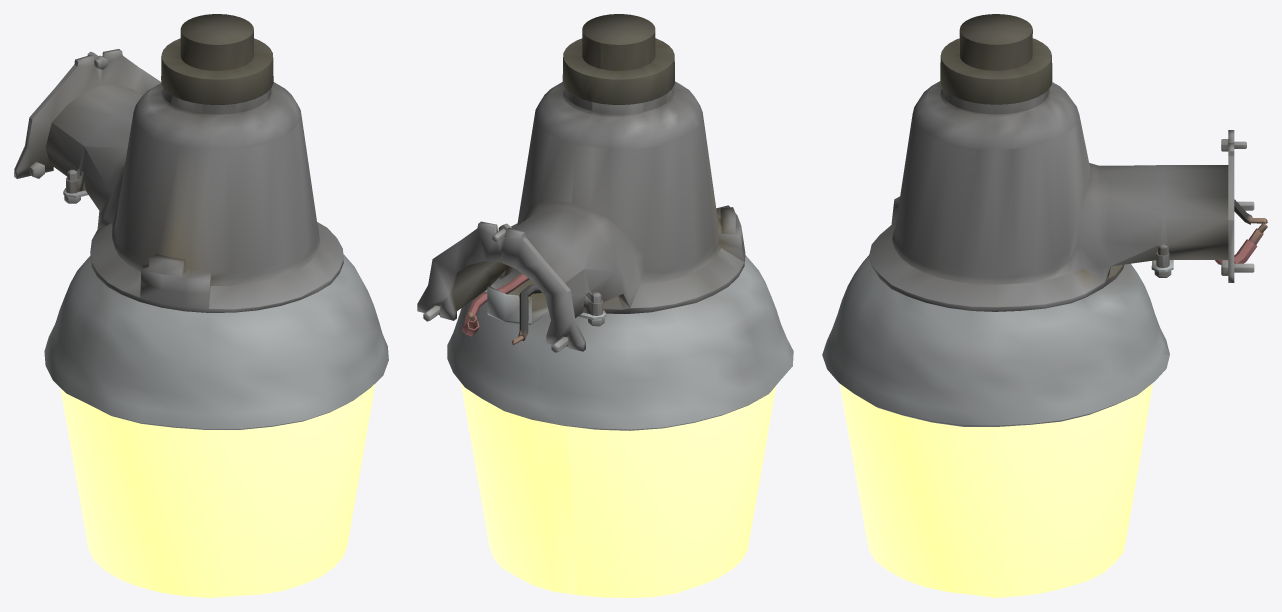
Rendered from KFB_Lamp_flood.r1.glb.
The picture shows the model from 3 angles, left to right: view 1: azimuth 30°, elevation 25°; view 2: azimuth 150°, elevation 25°; view 3: azimuth 270°, elevation 25°; orthographic projection.
Parts seen in each view (by area): view 1: KFB_Lamp_flood; view 2: KFB_Lamp_flood; view 3: KFB_Lamp_flood.
Boxes of the visible parts, left/top/right/bottom form: KFB_Lamp_flood: left=14, top=14, right=388, bottom=597; KFB_Lamp_flood: left=417, top=14, right=793, bottom=597; KFB_Lamp_flood: left=822, top=14, right=1267, bottom=597.
Size of the model in its own units: 0.6081 by 0.9999 by 0.7855.
